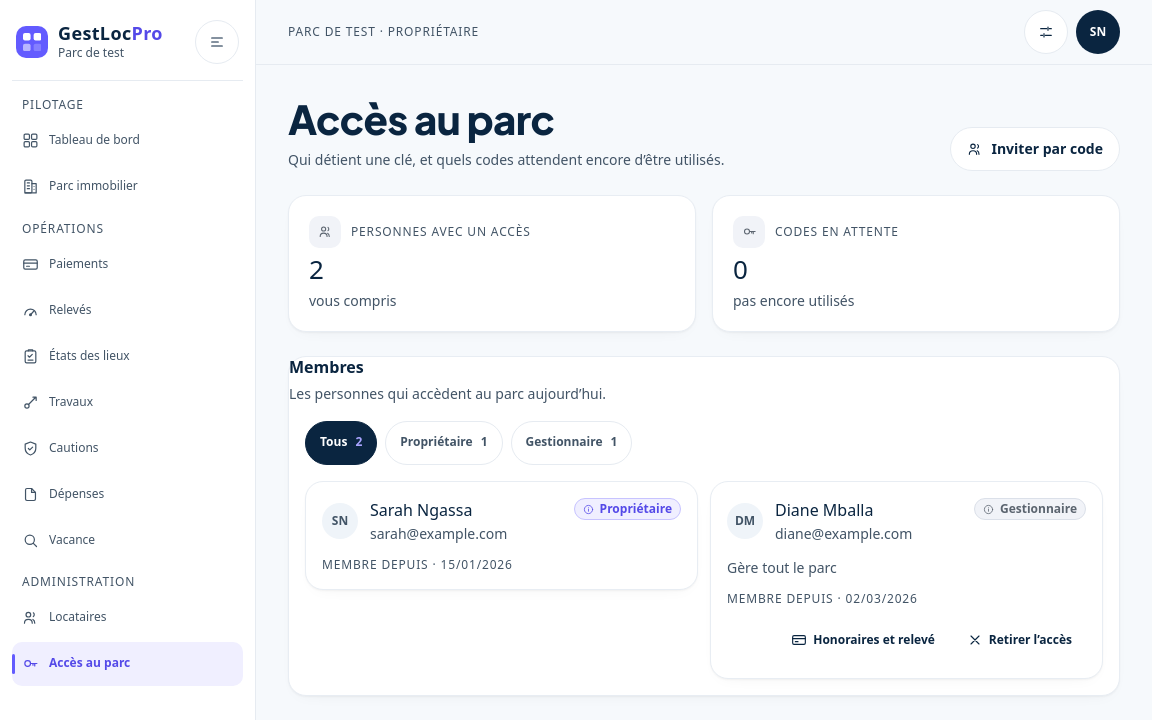
it: ce que la boîte dit du compte-rendu › N’AFFICHE PAS LE TAUX FIGÉ quand il est celui du barème courant
Click the button with aria-label "Honoraires et relevé — Diane Mballa" at (863, 640), box [777, 618, 949, 662]
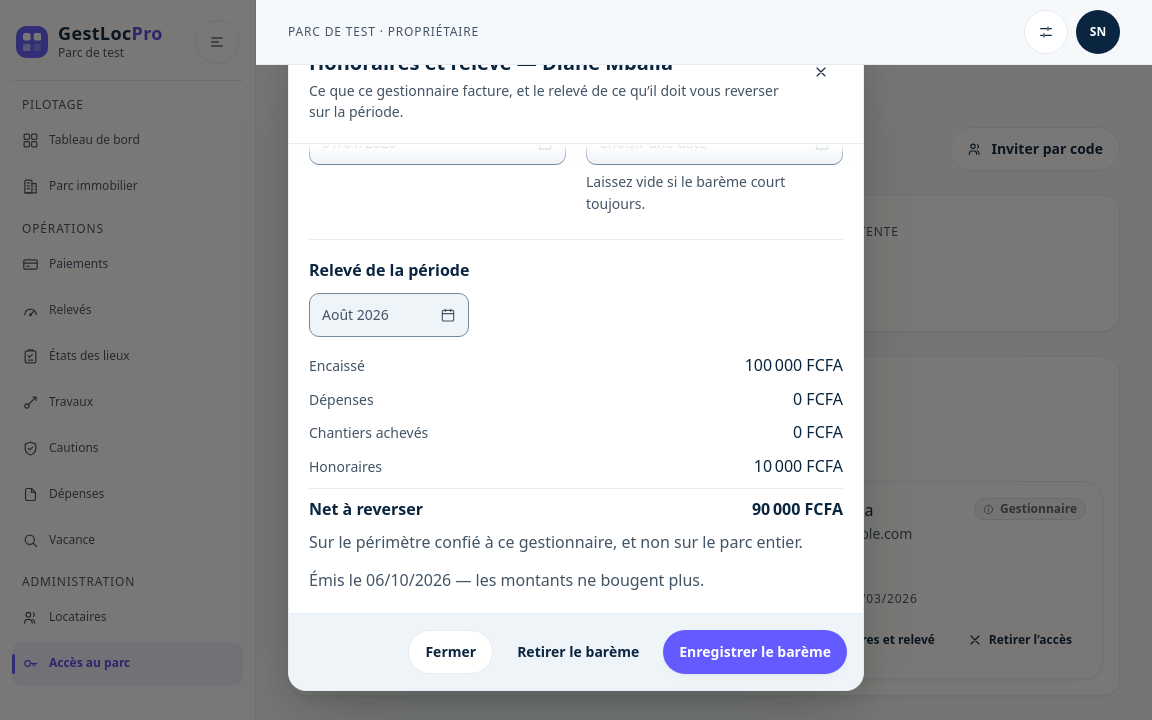
expect the text "Émis le 06/10/2026 — les montants ne bougent plus." is shown: met, box [309, 569, 704, 591]
